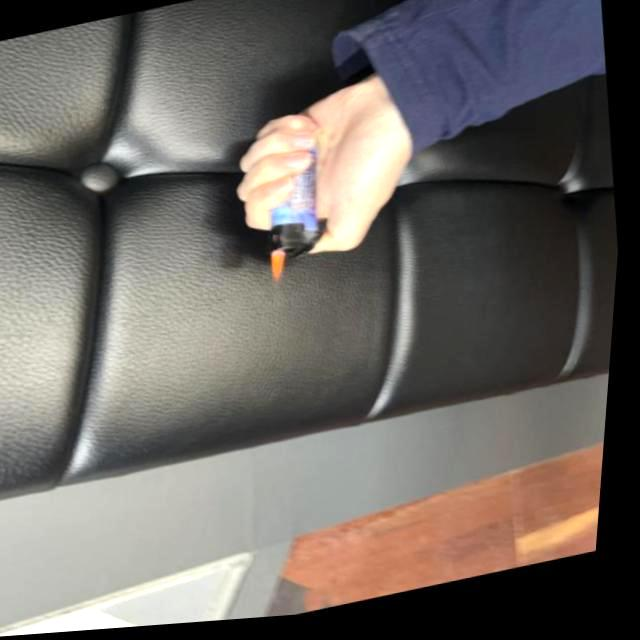fire: (272, 248, 298, 288)
